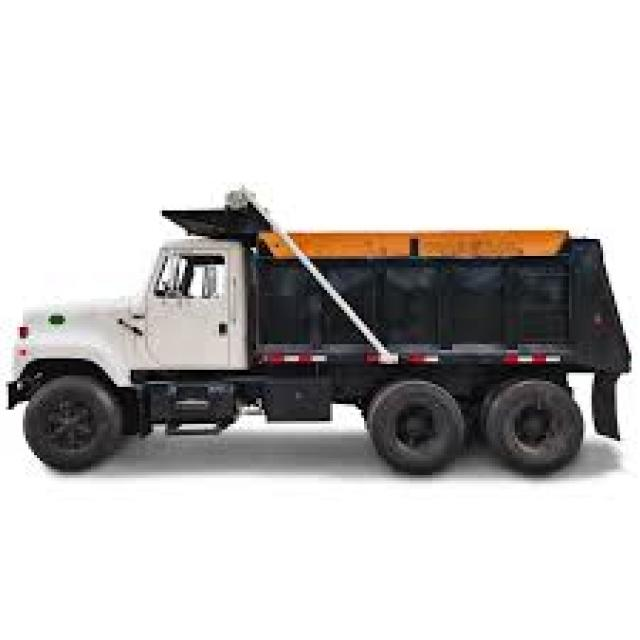dump_truck: (11, 191, 636, 482)
